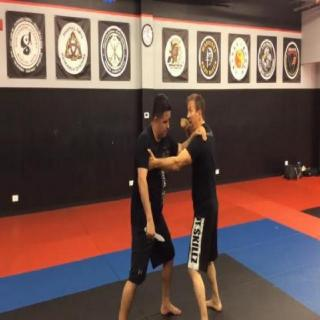knife: (142, 223, 168, 244)
